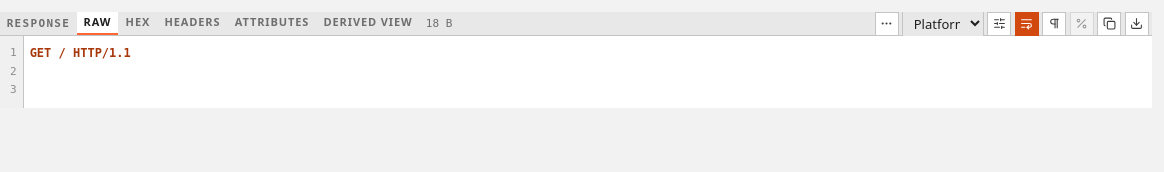
Test: plugin editor tabs in the strip › a pane with no stored message still offers the tab, and opening it says why nothing ran
The width and height of the screenshot is (1164, 172).
Click the tab "Derived view" at (368, 24), box [317,12,419,35]
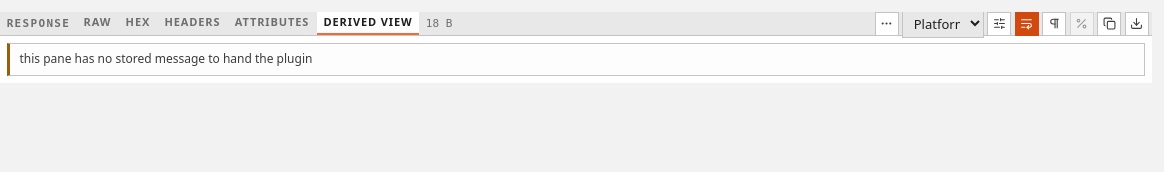
Now the message shows "no stored message", box [20,50,312,67]
